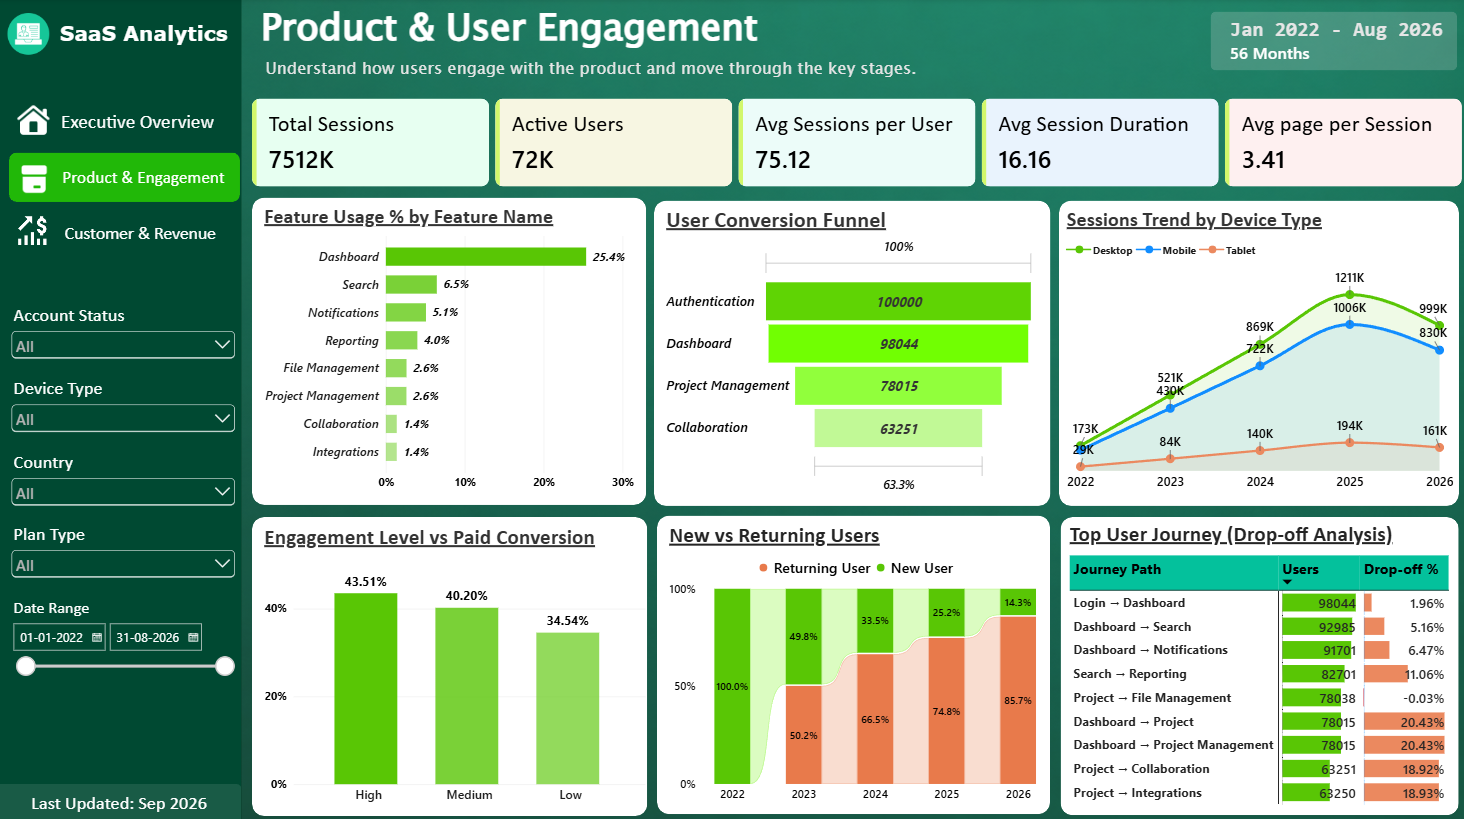

Layout of this report page (visuals, bound fields, positions):
{"tool":"powerbi","page":{"name":"product & Engagement","canvas":[1920,1080],"ordinal":1},"visuals":[{"type":"shape","box":[333,677.8,517,391],"z":0},{"type":"shape","box":[1391.3,677.8,520.8,390],"z":1000},{"type":"shape","box":[858.5,264,518.5,399.5],"z":2000},{"type":"shape","box":[0,0,320,1076],"z":3000},{"type":"image","box":[13.6,20.4,54.5,54.5],"z":4000},{"type":"textbox","box":[81.8,29.5,233.9,59.1],"z":5000},{"type":"shape","title":"E","box":[8.6,129.4,302,65],"z":6000},{"type":"image","box":[19.4,133.7,56.1,56.1],"z":7000},{"type":"shape","title":"E","box":[15.1,201.8,302,64.7],"z":8000},{"type":"image","box":[21.6,209.2,53.9,53.9],"z":9000},{"type":"shape","title":"E","box":[15.1,274,302,64.7],"z":10000},{"type":"image","box":[21.6,280.4,49.6,47.5],"z":11000},{"type":"cardVisual","fields":{"Data":["Measure_table.total_sessions","Measure_table.Active Users","Measure_table.Avg Sessions per User","Measure_table.Avg Duration Time","Measure_table.Avg page per session"]},"box":[333.9,131.7,1582,115.8],"z":12000},{"type":"slicer","title":"Date Range","fields":{"Values":["Calendar.Date"]},"box":[13.6,783.6,299.8,143.1],"z":13000},{"type":"slicer","fields":{"Values":["users.account_status"]},"box":[13.6,397.5,302.1,84],"z":14000},{"type":"slicer","fields":{"Values":["sessions.device_type"]},"box":[13.6,493.4,302.1,84],"z":15000},{"type":"slicer","fields":{"Values":["users.country"]},"box":[13.6,589.4,302.1,84],"z":16000},{"type":"slicer","fields":{"Values":["users.initial_plan"]},"box":[13.6,685.4,302.1,84],"z":17000},{"type":"shape","title":"E","box":[0,1026.8,319.3,51.8],"z":18000},{"type":"textbox","box":[345.2,2.3,908.5,127.2],"z":19000},{"type":"shape","box":[1587.6,18.2,322.5,77.2],"z":20000},{"type":"textbox","box":[1612.6,25,302.1,68.1],"z":21000},{"type":"shape","box":[333.9,261.2,515.6,402],"z":22000},{"type":"barChart","title":"Feature Usage % by Feature Name","fields":{"Category":["product_events.feature_name"],"Y":["Measure_table.Feature Usage %"]},"box":[333.9,254.4,517.9,408.8],"z":23000},{"type":"funnel","title":"User Conversion Funnel","fields":{"Category":["product_events.feature_name"],"Y":["Measure_table.Funnel Users"]},"box":[858.5,256.8,513.7,409.1],"z":24000},{"type":"shape","box":[1388.9,264,523,399.5],"z":25000},{"type":"pivotTable","title":"Top User Journey (Drop-off Analysis)","fields":{"Rows":["User Journeys.Journey"],"Values":["User Journeys.Journey Users","User Journeys.Journey Drop-off %"]},"box":[1386.5,668.3,528,404.3],"z":26000},{"type":"shape","box":[863.1,676.8,514,390.7],"z":27000},{"type":"hundredPercentStackedColumnChart","title":"New vs Returning Users","fields":{"Category":["Calendar.Year"],"Y":["Measure_table.Returning User %","Measure_table.New User %"]},"box":[863.3,670.7,525.6,401.9],"z":28000},{"type":"columnChart","title":"Engagement Level vs Paid Conversion","fields":{"Category":["sessions.Engagement Level"],"Y":["Measure_table.Paid Conversion Rate"]},"box":[333,673,530.3,401.9],"z":29000},{"type":"lineChart","title":"Sessions Trend by Device Type","fields":{"Category":["Calendar.Year"],"Series":["sessions.device_type"],"Y":["Measure_table.total_sessions"]},"box":[1382.5,259.2,537.5,406.7],"z":29001}]}

Visuals, with their boxes on the page's 1920x1080 design canvas (x1, y1, x2, y2). These are canvas units, not pixel positions in the 1464x819 screenshot, which may show the page scaled, cropped or inside an application window:
shape: rect(333, 678, 850, 1069)
shape: rect(1391, 678, 1912, 1068)
shape: rect(858, 264, 1377, 664)
shape: rect(0, 0, 320, 1076)
image: rect(14, 20, 68, 75)
textbox: rect(82, 30, 316, 89)
"E" shape: rect(9, 129, 311, 194)
image: rect(19, 134, 76, 190)
"E" shape: rect(15, 202, 317, 266)
image: rect(22, 209, 76, 263)
"E" shape: rect(15, 274, 317, 339)
image: rect(22, 280, 71, 328)
cardVisual - Measure_table.total_sessions x Measure_table.Active Users: rect(334, 132, 1916, 248)
"Date Range" slicer: rect(14, 784, 313, 927)
slicer - users.account_status: rect(14, 398, 316, 482)
slicer - sessions.device_type: rect(14, 493, 316, 577)
slicer - users.country: rect(14, 589, 316, 673)
slicer - users.initial_plan: rect(14, 685, 316, 769)
"E" shape: rect(0, 1027, 319, 1079)
textbox: rect(345, 2, 1254, 130)
shape: rect(1588, 18, 1910, 95)
textbox: rect(1613, 25, 1915, 93)
shape: rect(334, 261, 850, 663)
"Feature Usage % by Feature Name" barChart: rect(334, 254, 852, 663)
"User Conversion Funnel" funnel: rect(858, 257, 1372, 666)
shape: rect(1389, 264, 1912, 664)
"Top User Journey (Drop-off Analysis)" pivotTable: rect(1386, 668, 1914, 1073)
shape: rect(863, 677, 1377, 1068)
"New vs Returning Users" hundredPercentStackedColumnChart: rect(863, 671, 1389, 1073)
"Engagement Level vs Paid Conversion" columnChart: rect(333, 673, 863, 1075)
"Sessions Trend by Device Type" lineChart: rect(1382, 259, 1920, 666)
